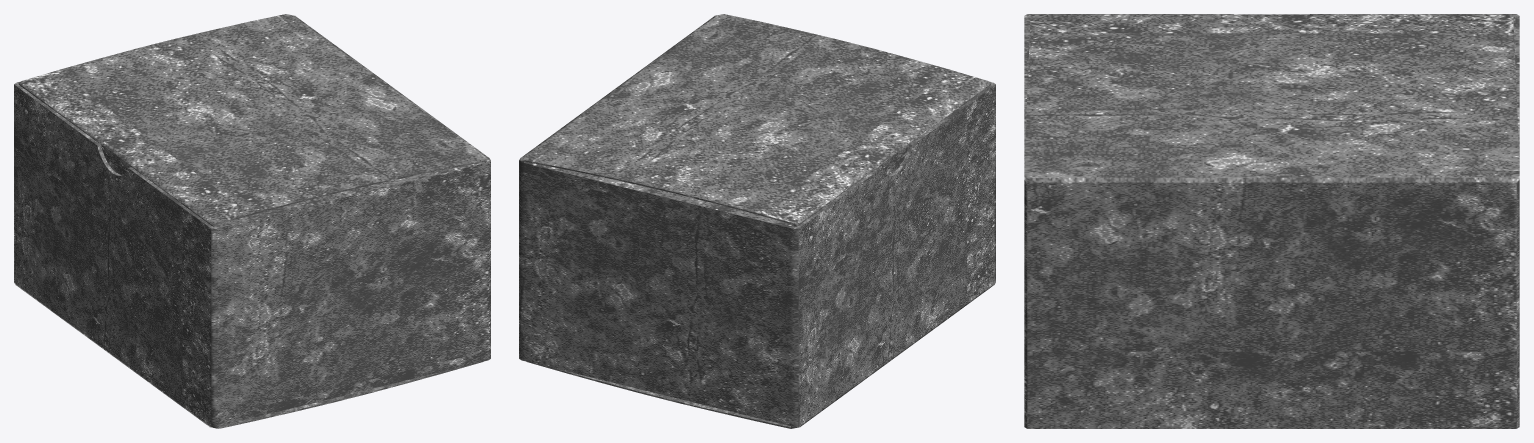
Rendered from ammo_shotgun.fbx.
3 renders of one model, left to right at view 1: azimuth 30°, elevation 25°; view 2: azimuth 150°, elevation 25°; view 3: azimuth 270°, elevation 25°, orthographic. The views are drawn at different scales.
Parts seen in each view (by area): view 1: 1.shotgun2; view 2: 1.shotgun2; view 3: 1.shotgun2.
Boxes of the visible parts, x1=… form: 1.shotgun2: x1=14, y1=14, x2=490, y2=428; 1.shotgun2: x1=519, y1=14, x2=995, y2=428; 1.shotgun2: x1=1024, y1=14, x2=1519, y2=428.
Bounding box in the file's own units: 9.17 × 6.57 × 11.34.
